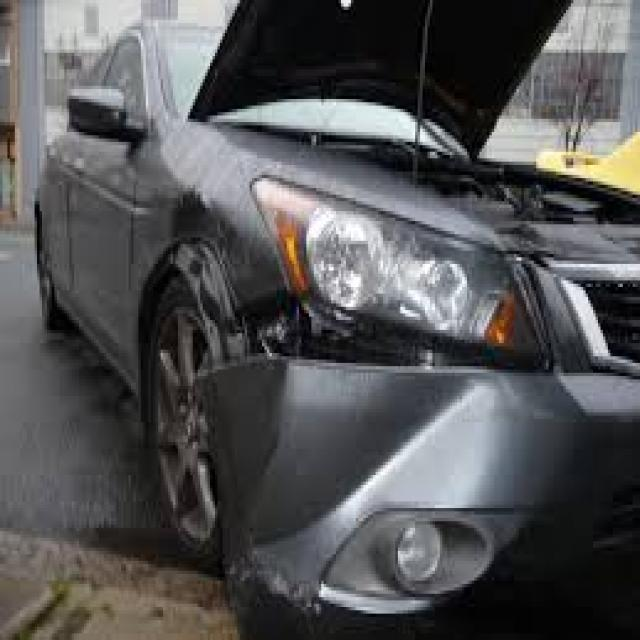moderate: (182, 226, 580, 602)
